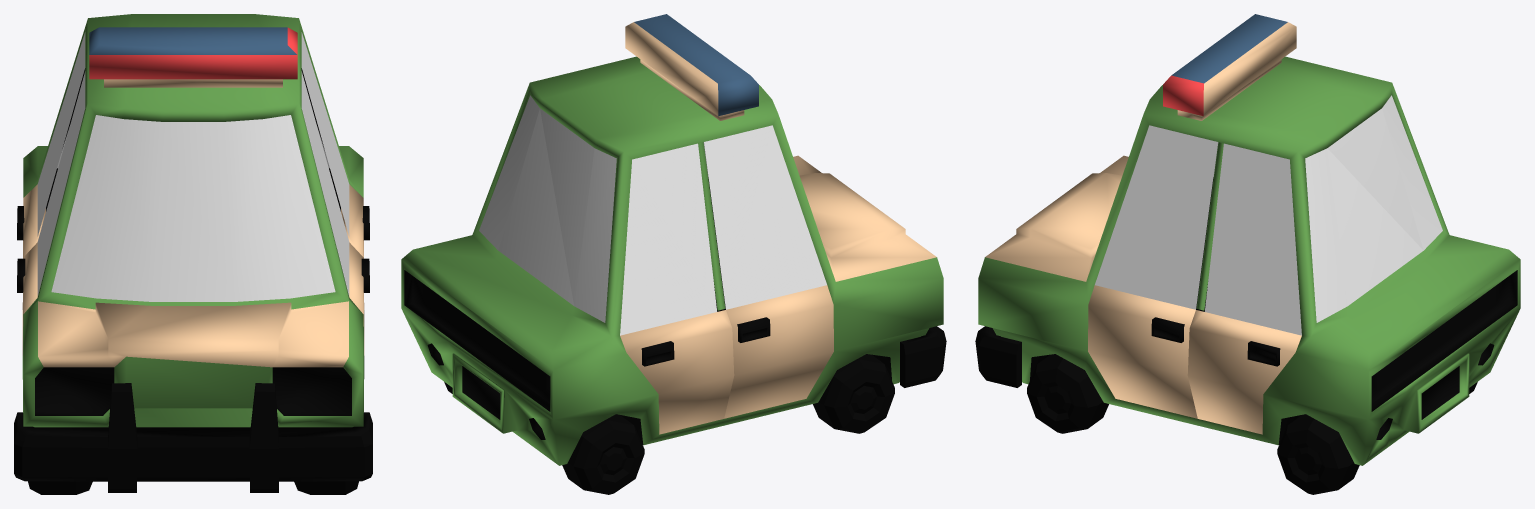
File: Toy216.fbx
The picture shows the model from 3 angles, left to right: view 1: azimuth 30°, elevation 25°; view 2: azimuth 150°, elevation 25°; view 3: azimuth 270°, elevation 25°; orthographic projection. The views are drawn at different scales.
Parts seen in each view (by area): view 1: Toy216; view 2: Toy216; view 3: Toy216.
Part boxes in pixels (left/top/right/bottom): Toy216: left=14, top=14, right=372, bottom=494; Toy216: left=401, top=14, right=946, bottom=494; Toy216: left=975, top=14, right=1520, bottom=494.
Bounding box in the file's own units: 0.1633 × 0.1314 × 0.1805.
